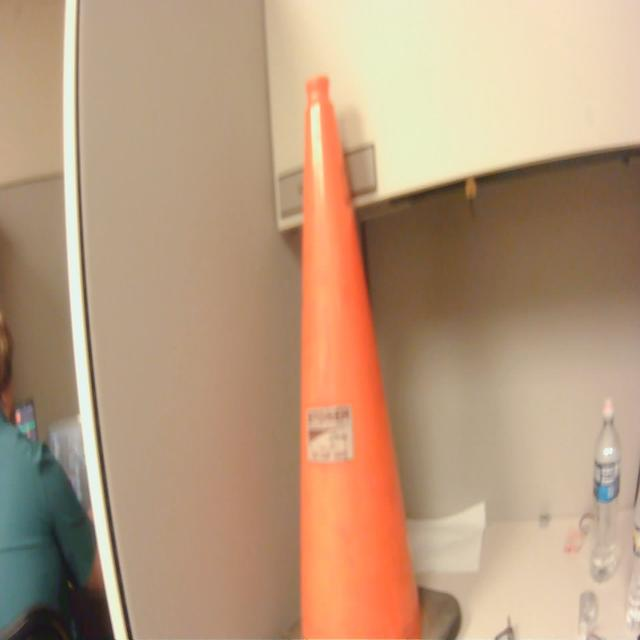traffic cone: (264, 68, 463, 640)
